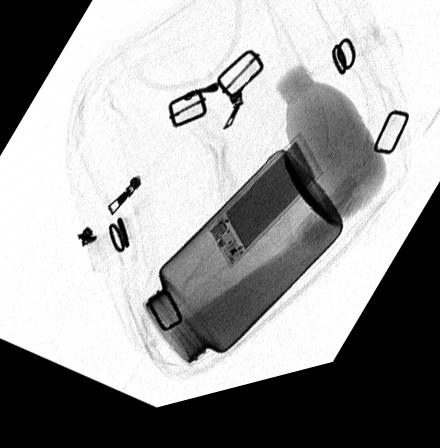Powerbank: (206, 147, 327, 281)
